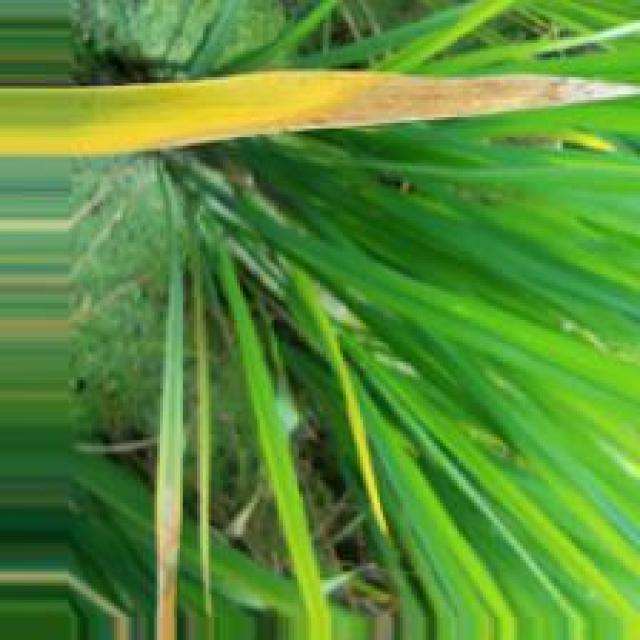Leaf_Scald: (265, 74, 584, 131)
